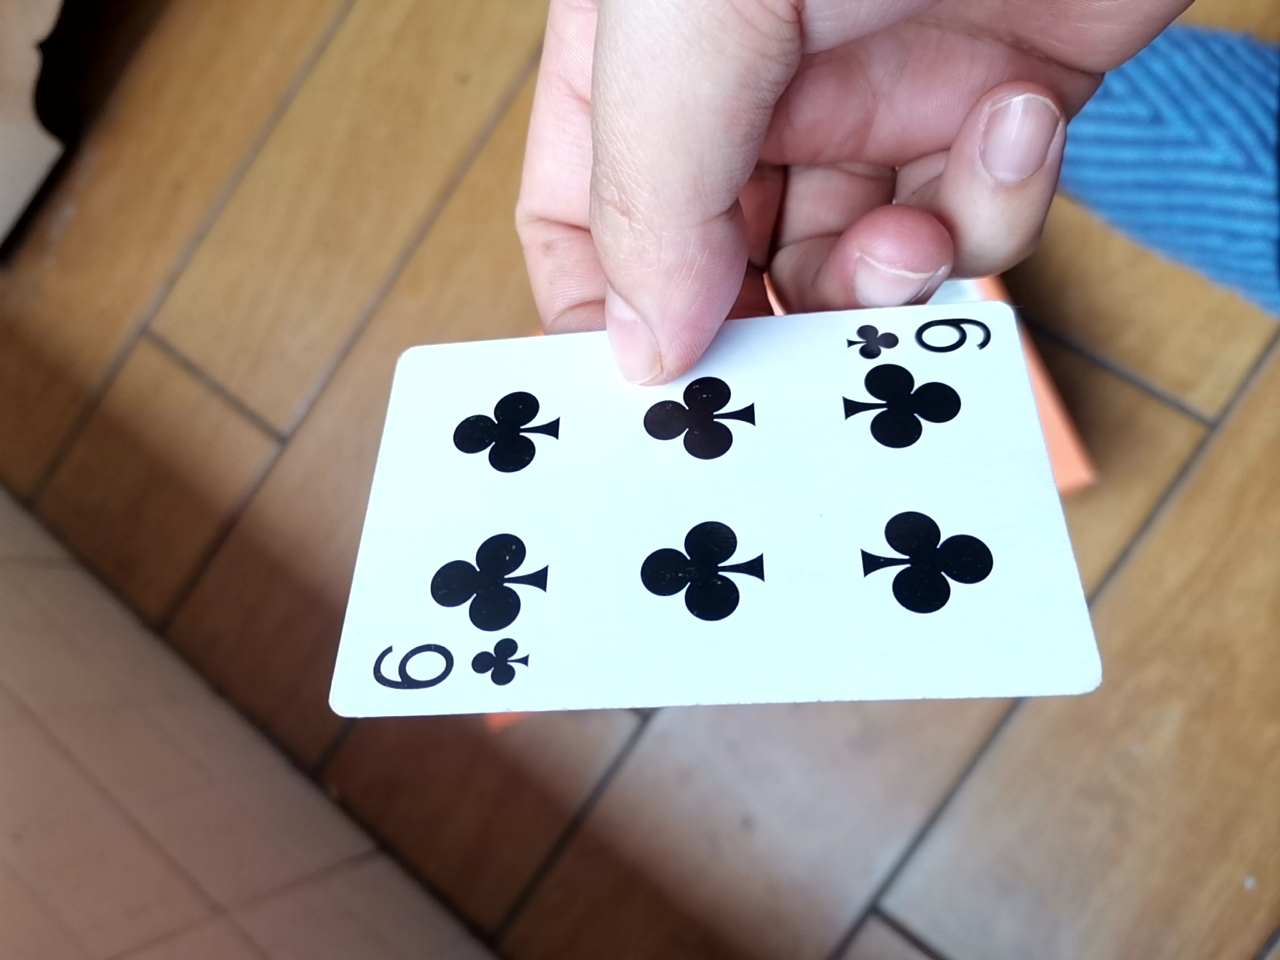mh 6: (305, 286, 1112, 727)
